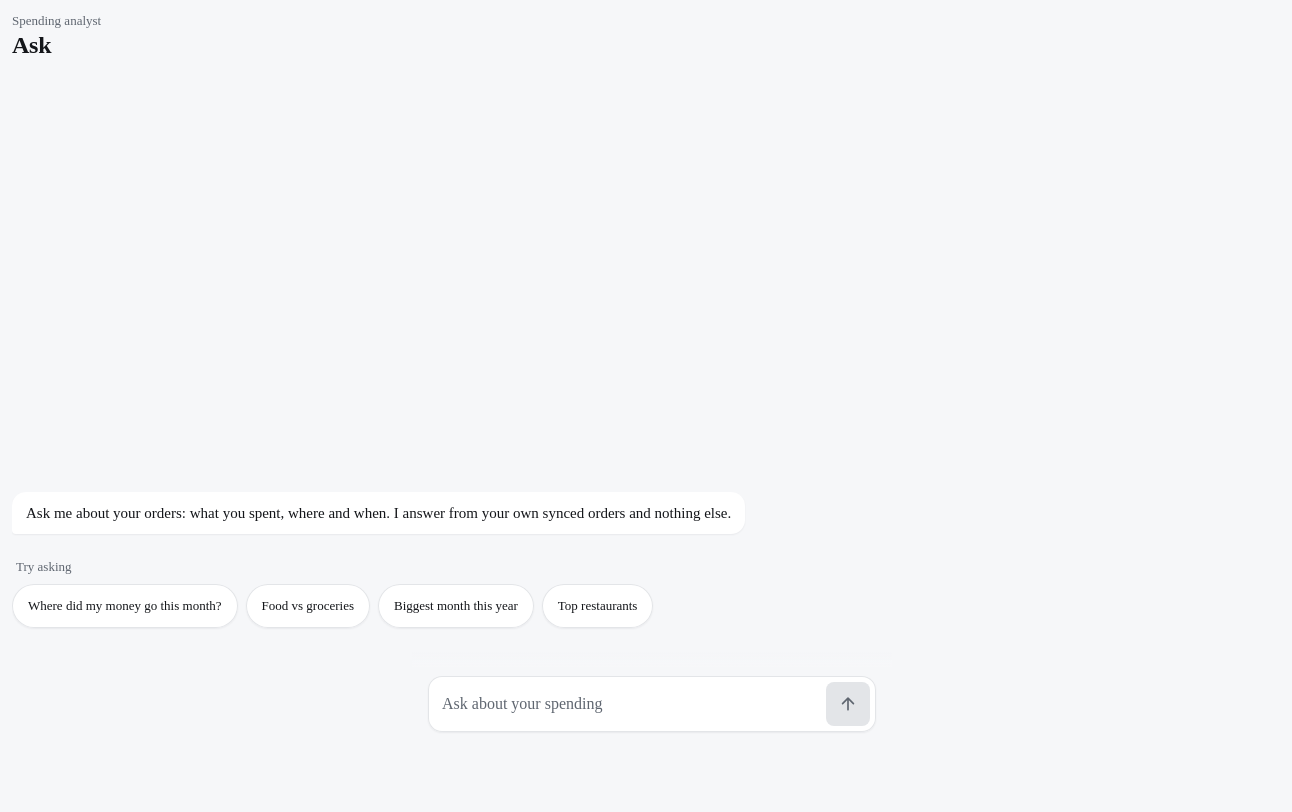
AskChat › sends a chip's question to POST /ask and shows the question and the answer
Click the button "Food vs groceries".
click(308, 606)  # box [246, 584, 370, 628]
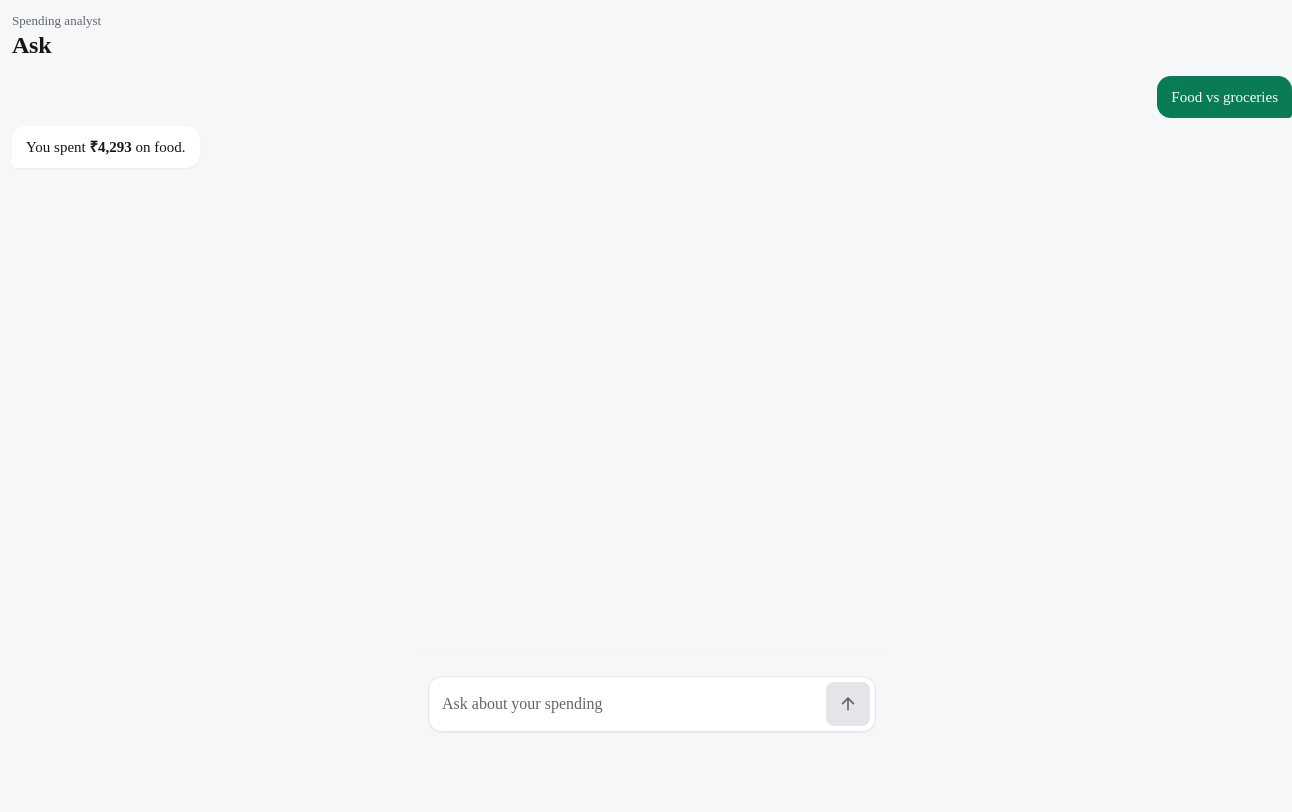
Expected: the text "Food vs groceries" is shown, [1157, 76, 1291, 118]
Now the text "₹4,293" is shown, box [90, 139, 132, 155]
Now the button "Top restaurants" is gone
